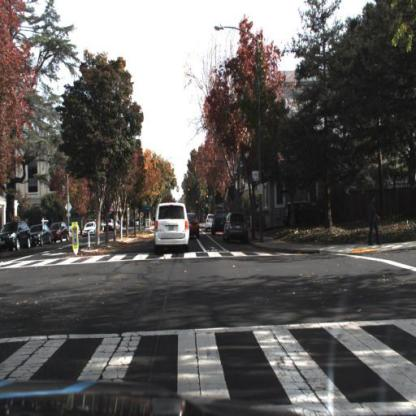car: (153, 196, 191, 253), (281, 199, 336, 230), (1, 220, 34, 256), (222, 209, 250, 245), (28, 222, 51, 250), (48, 220, 73, 244), (186, 209, 202, 239), (210, 208, 225, 240), (81, 219, 97, 239), (205, 212, 215, 233)
pedestrian: (368, 196, 382, 247)
